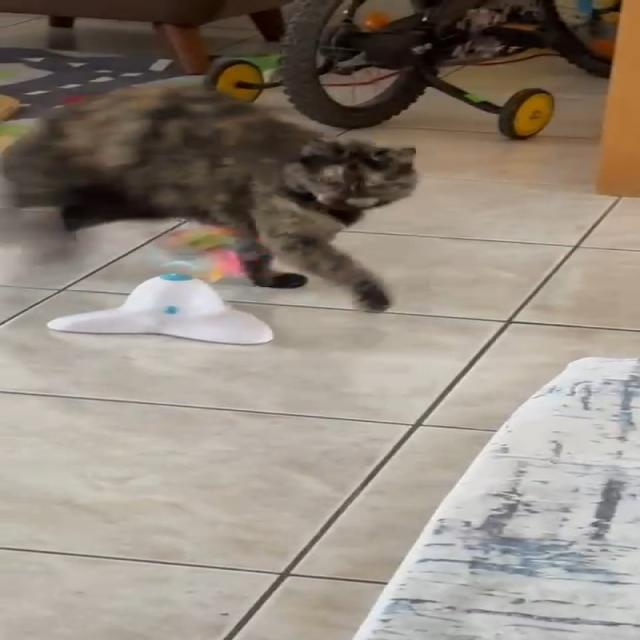authorized: (1, 84, 419, 313)
